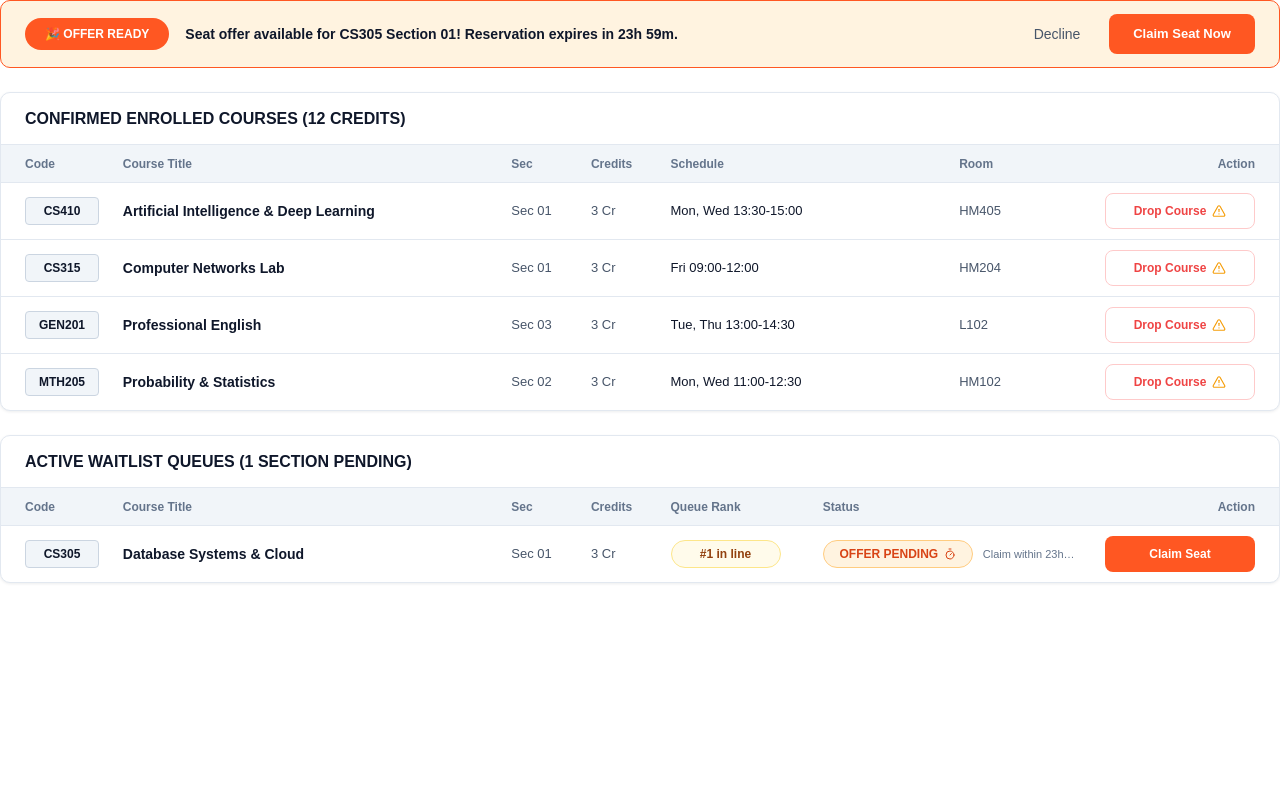
Test: RegisteredPage › asks before declining a seat offer
Click the button "Decline" at (1057, 34), box [1017,16,1097,52]
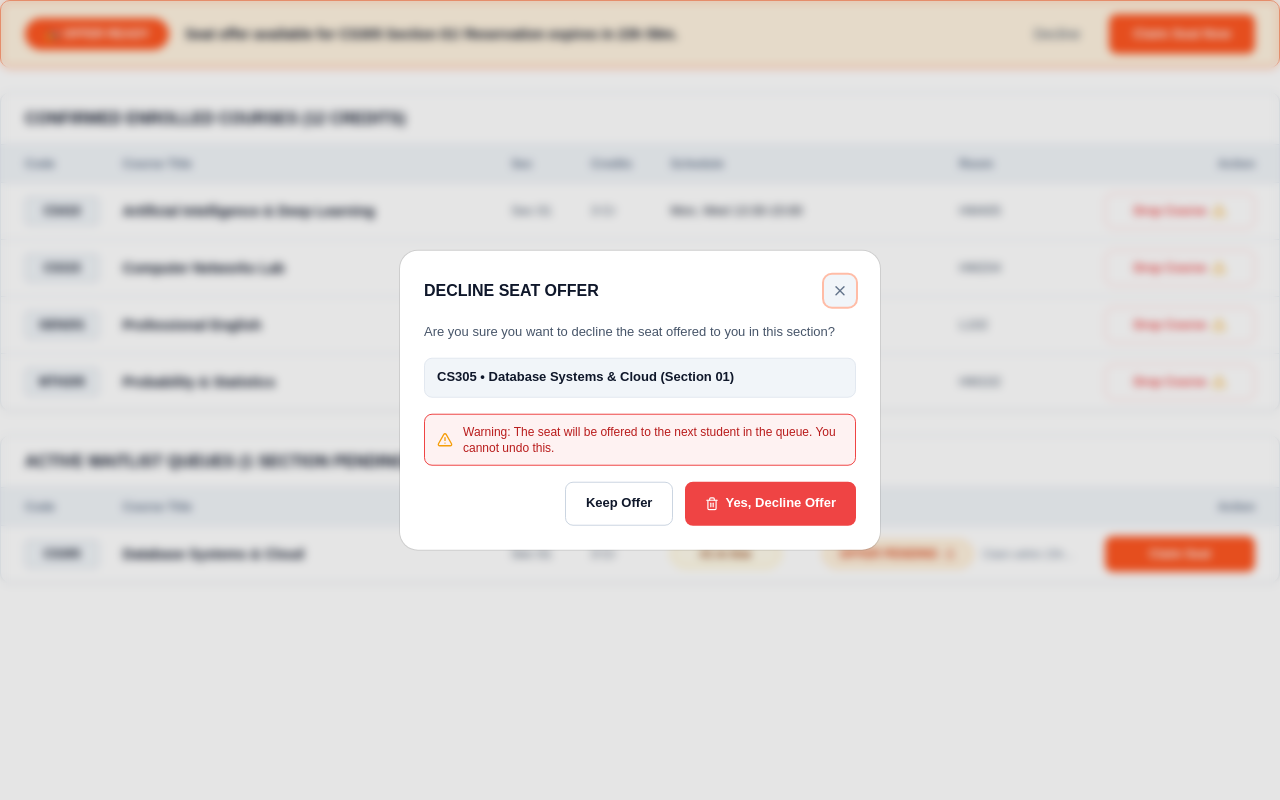
Now the heading "Decline Seat Offer" is shown, box [424,279,599,303]
Click the button "Yes, Decline Offer" at (771, 503), box [685,481,856,525]
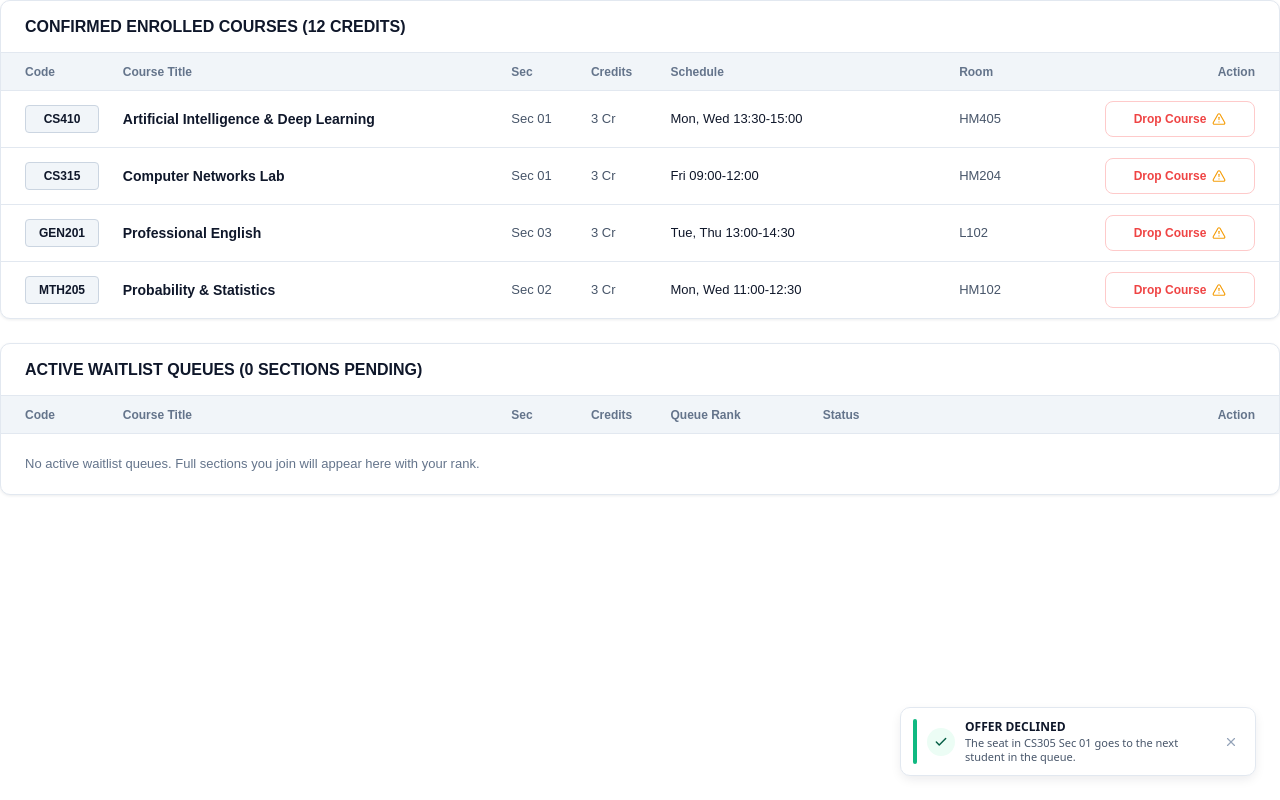
Now the text "Offer declined" is shown, box [965,718,1066,735]
Now the text "🎉 OFFER READY" is gone
